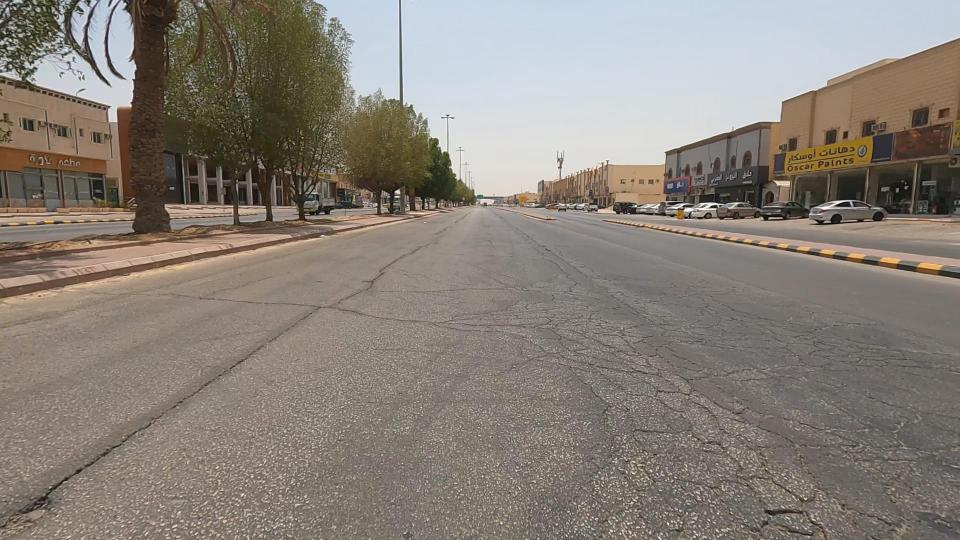SAND_ON_ROAD: (838, 112, 960, 181)
